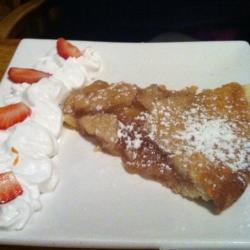apple_pie: (57, 74, 243, 211)
chantilly: (3, 38, 95, 234)
